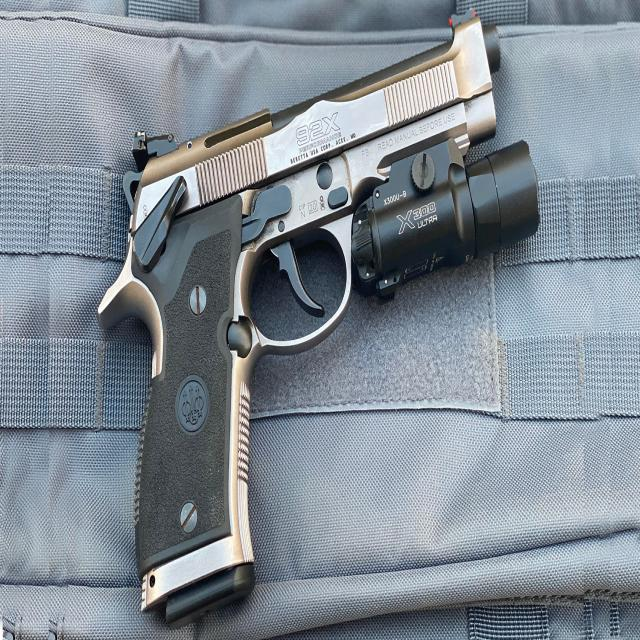Gun: (85, 4, 515, 626)
